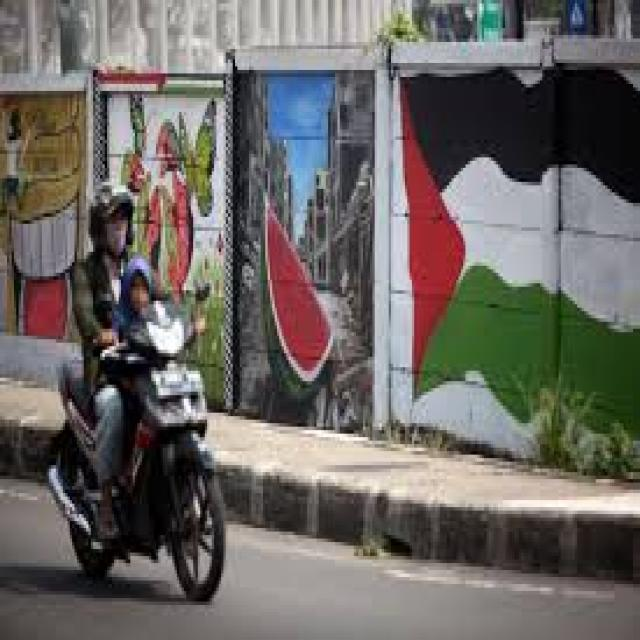-: (398, 56, 640, 434), (234, 66, 374, 433), (106, 85, 226, 404), (2, 91, 84, 341)
